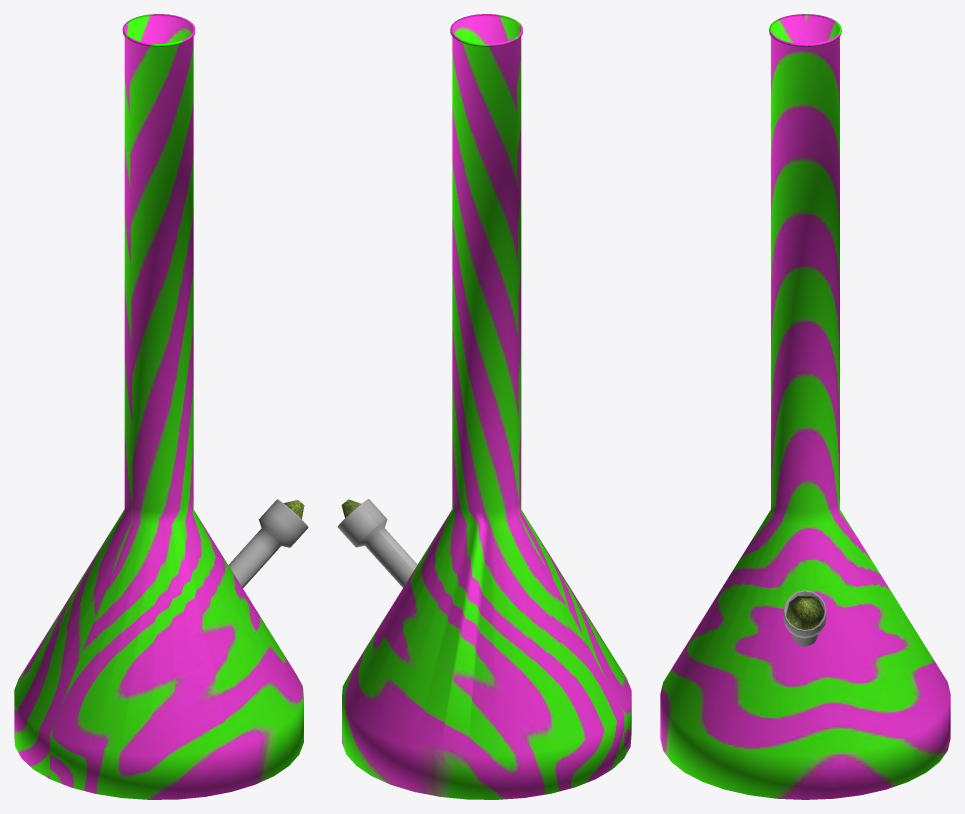
File: Bong2Filled_Ground.fbx
3 views of the same model, side by side, from view 1: azimuth 30°, elevation 25°; view 2: azimuth 150°, elevation 25°; view 3: azimuth 270°, elevation 25° (orthographic).
Parts seen in each view (by area): view 1: bong; view 2: bong; view 3: bong.
Part boxes in pixels (box(x1,y1,x2,y2)): bong: box(14, 14, 308, 799); bong: box(337, 14, 631, 799); bong: box(660, 14, 950, 799).
Size of the model in its own units: 0.1247 by 0.3118 by 0.1157.
